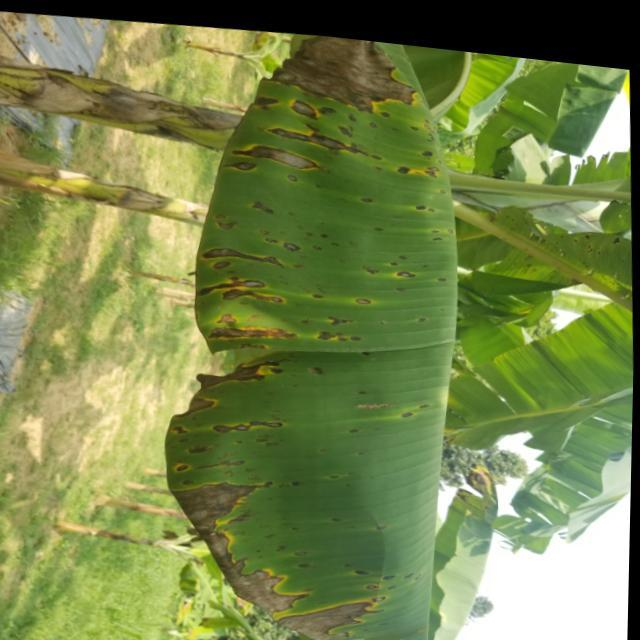Early_rust: (168, 22, 464, 640)
